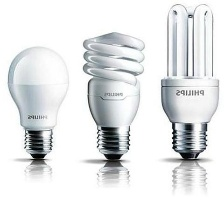light_bulb: (156, 2, 220, 165), (82, 28, 149, 161), (4, 43, 73, 165)
